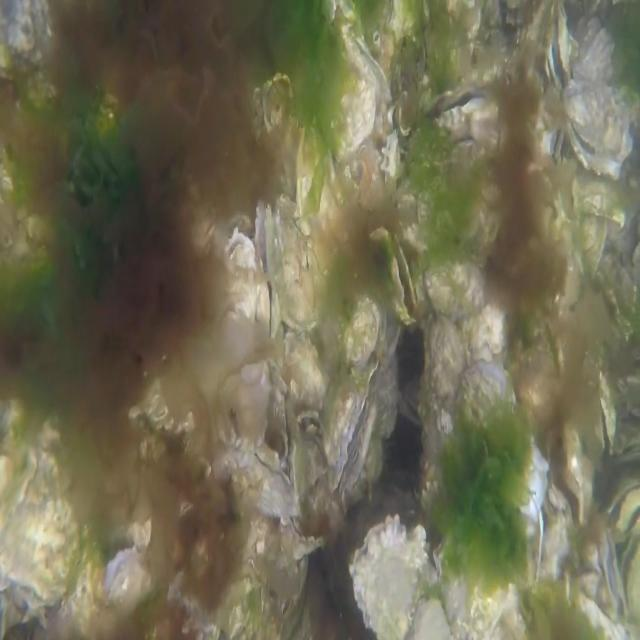Oyster-Closed: (432, 517, 527, 640), (324, 355, 380, 495), (226, 447, 302, 528), (282, 512, 327, 565)
Oyster-Indeterminate: (444, 358, 550, 515), (0, 419, 80, 603), (348, 514, 429, 640), (320, 0, 377, 160), (295, 120, 348, 260), (424, 306, 468, 468), (273, 192, 319, 334), (343, 287, 403, 370), (282, 325, 330, 421), (419, 252, 490, 316), (100, 545, 148, 617), (572, 177, 626, 226), (575, 210, 608, 284)
Oyster-Open: (561, 18, 639, 180), (540, 412, 594, 531), (425, 85, 501, 168), (235, 360, 289, 471), (223, 223, 259, 326), (253, 202, 277, 341), (389, 239, 420, 324), (599, 525, 627, 619), (602, 474, 640, 538), (546, 0, 572, 90), (594, 377, 617, 458)
